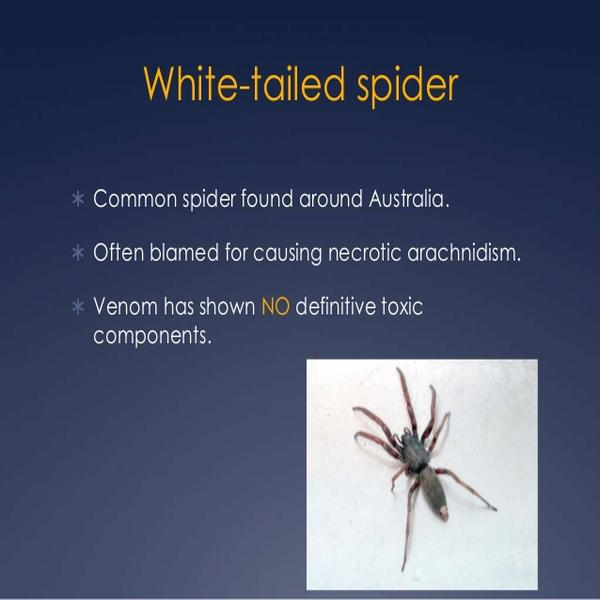White-Tailed_Spider: (353, 368, 499, 571)
